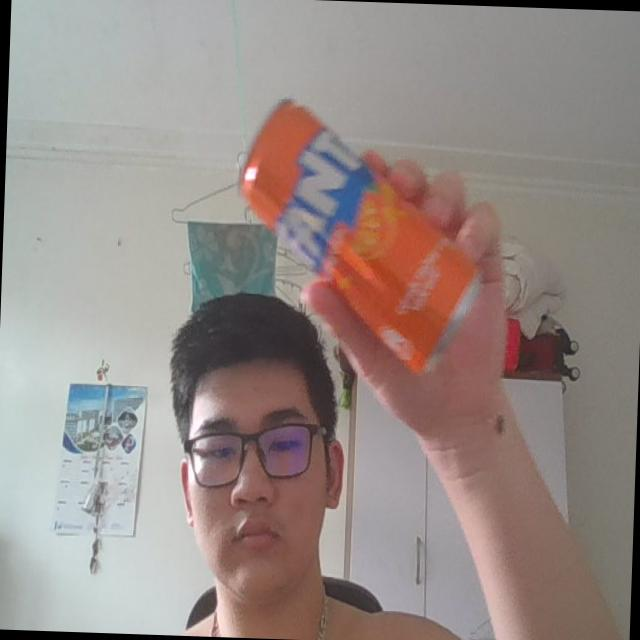Fanta: (232, 91, 488, 383)
